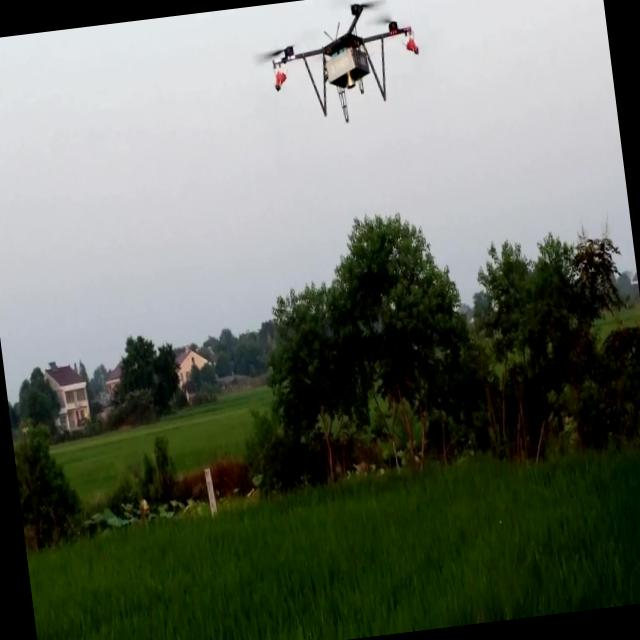drone: (260, 0, 428, 133)
